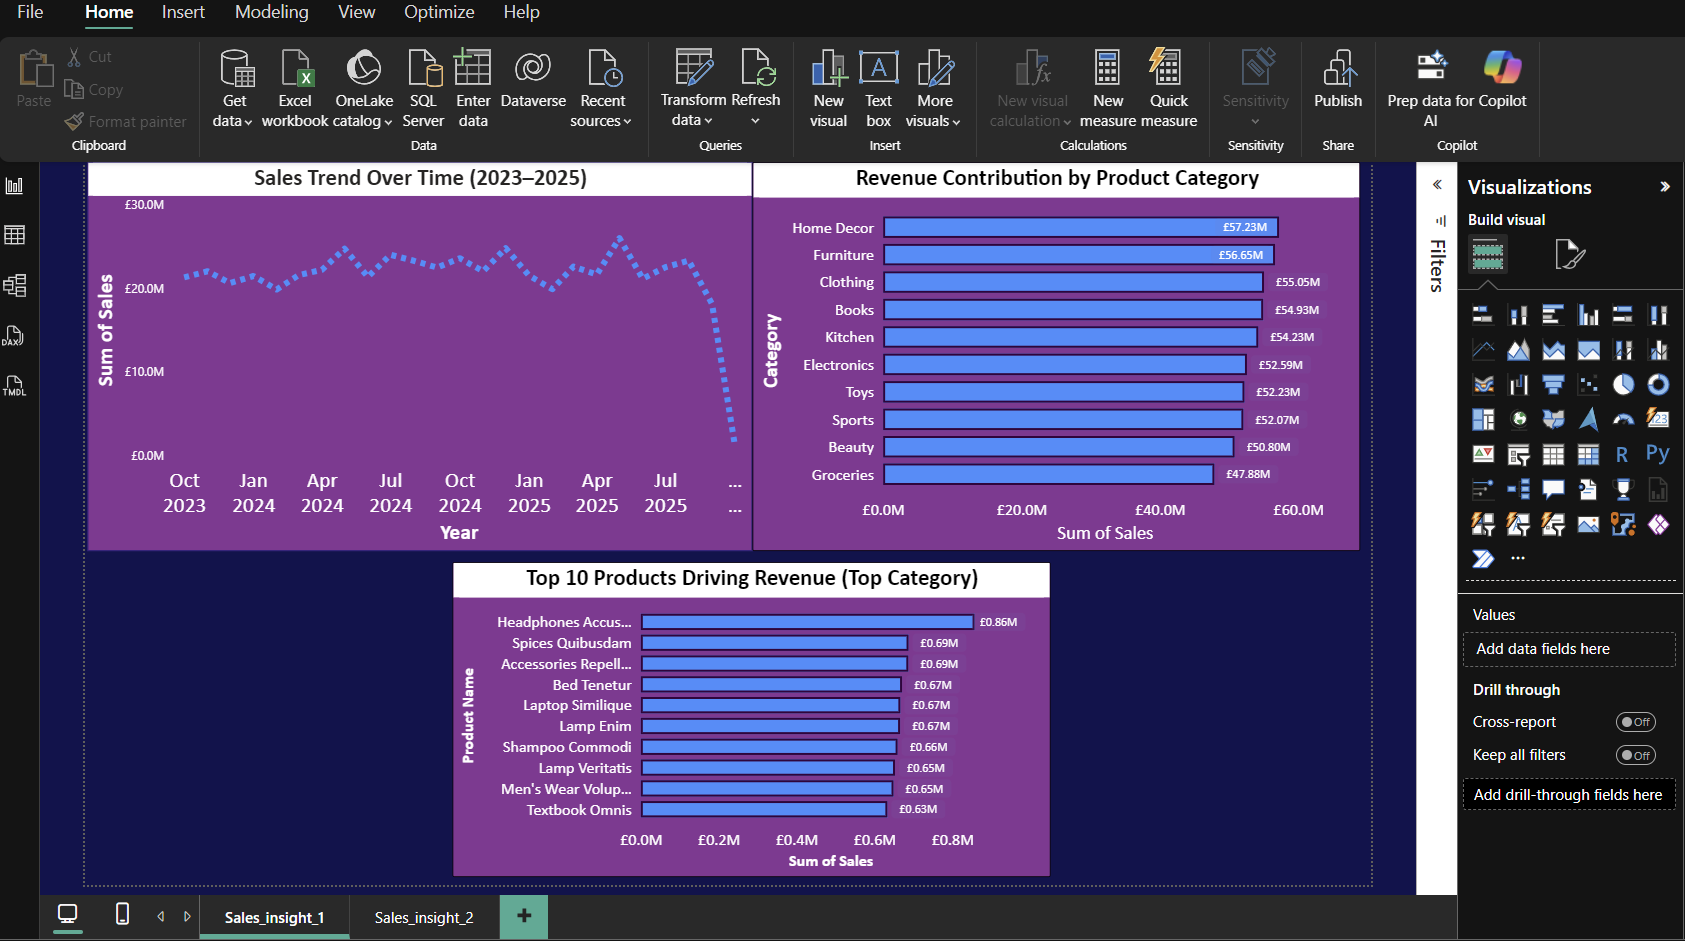

The page's visual inventory and layout, read from the dashboard file:
{"tool":"powerbi","page":{"name":"Sales_insight_1","canvas":[1280,720],"ordinal":0},"visuals":[{"type":"lineChart","title":"Sales Trend Over Time (2023–2025)","fields":{"Category":["Sales_analysis_project(working).Order Date.Variation.Date Hierarchy.Year","Sales_analysis_project(working).Order Date.Variation.Date Hierarchy.Quarter","Sales_analysis_project(working).Order Date.Variation.Date Hierarchy.Month"],"Y":["Sum(Sales_analysis_project(working).Sales)"]},"box":[2.7,0,661.4,387],"z":0},{"type":"clusteredBarChart","title":"Revenue Contribution by Product Category","fields":{"Category":["Sales_analysis_project(working).Category"],"Y":["Sum(Sales_analysis_project(working).Sales)"]},"box":[664.2,0,605.1,387],"z":1000},{"type":"clusteredBarChart","title":"Top 10 Products Driving Revenue (Top Category)","fields":{"Y":["Sum(Sales_analysis_project(working).Sales)"],"Category":["Sales_analysis_project(working).Product Name"]},"box":[366.2,397.5,595,313.8],"z":2000}]}

Visuals, with their boxes on the page's 1280x720 design canvas (x1, y1, x2, y2). These are canvas units, not pixel positions in the 1685x941 screenshot, which may show the page scaled, cropped or inside an application window:
"Sales Trend Over Time (2023–2025)" lineChart: <bbox>3, 0, 664, 387</bbox>
"Revenue Contribution by Product Category" clusteredBarChart: <bbox>664, 0, 1269, 387</bbox>
"Top 10 Products Driving Revenue (Top Category)" clusteredBarChart: <bbox>366, 398, 961, 711</bbox>
